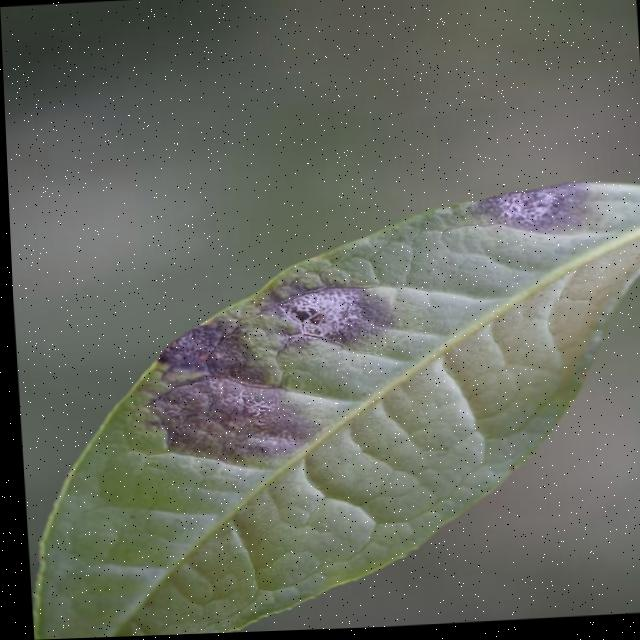Tea exobasidium blight: (116, 266, 404, 468), (466, 175, 590, 236)
